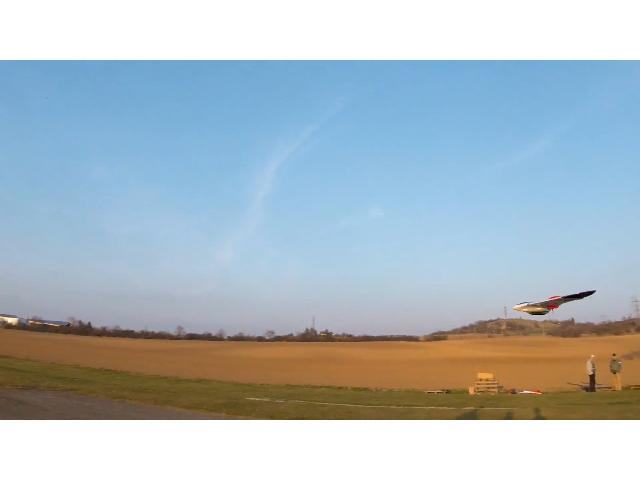Anti-Drone: (514, 290, 596, 314)
